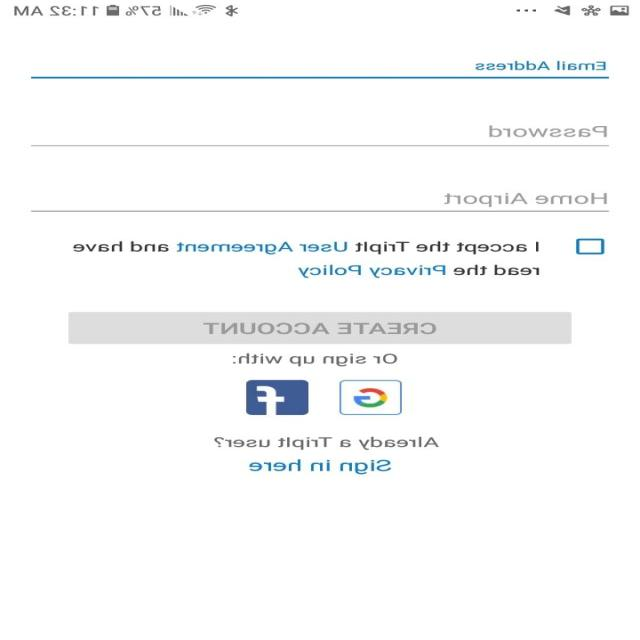EditText: (31, 125, 610, 147), (31, 192, 610, 212), (31, 60, 610, 79)
Icon: (247, 380, 310, 415), (340, 380, 402, 415)
Text: (72, 241, 540, 278), (214, 436, 440, 450), (232, 352, 398, 367), (443, 192, 608, 207), (249, 458, 392, 475), (489, 125, 608, 138), (476, 60, 608, 70)
TextButton: (69, 312, 572, 344)
